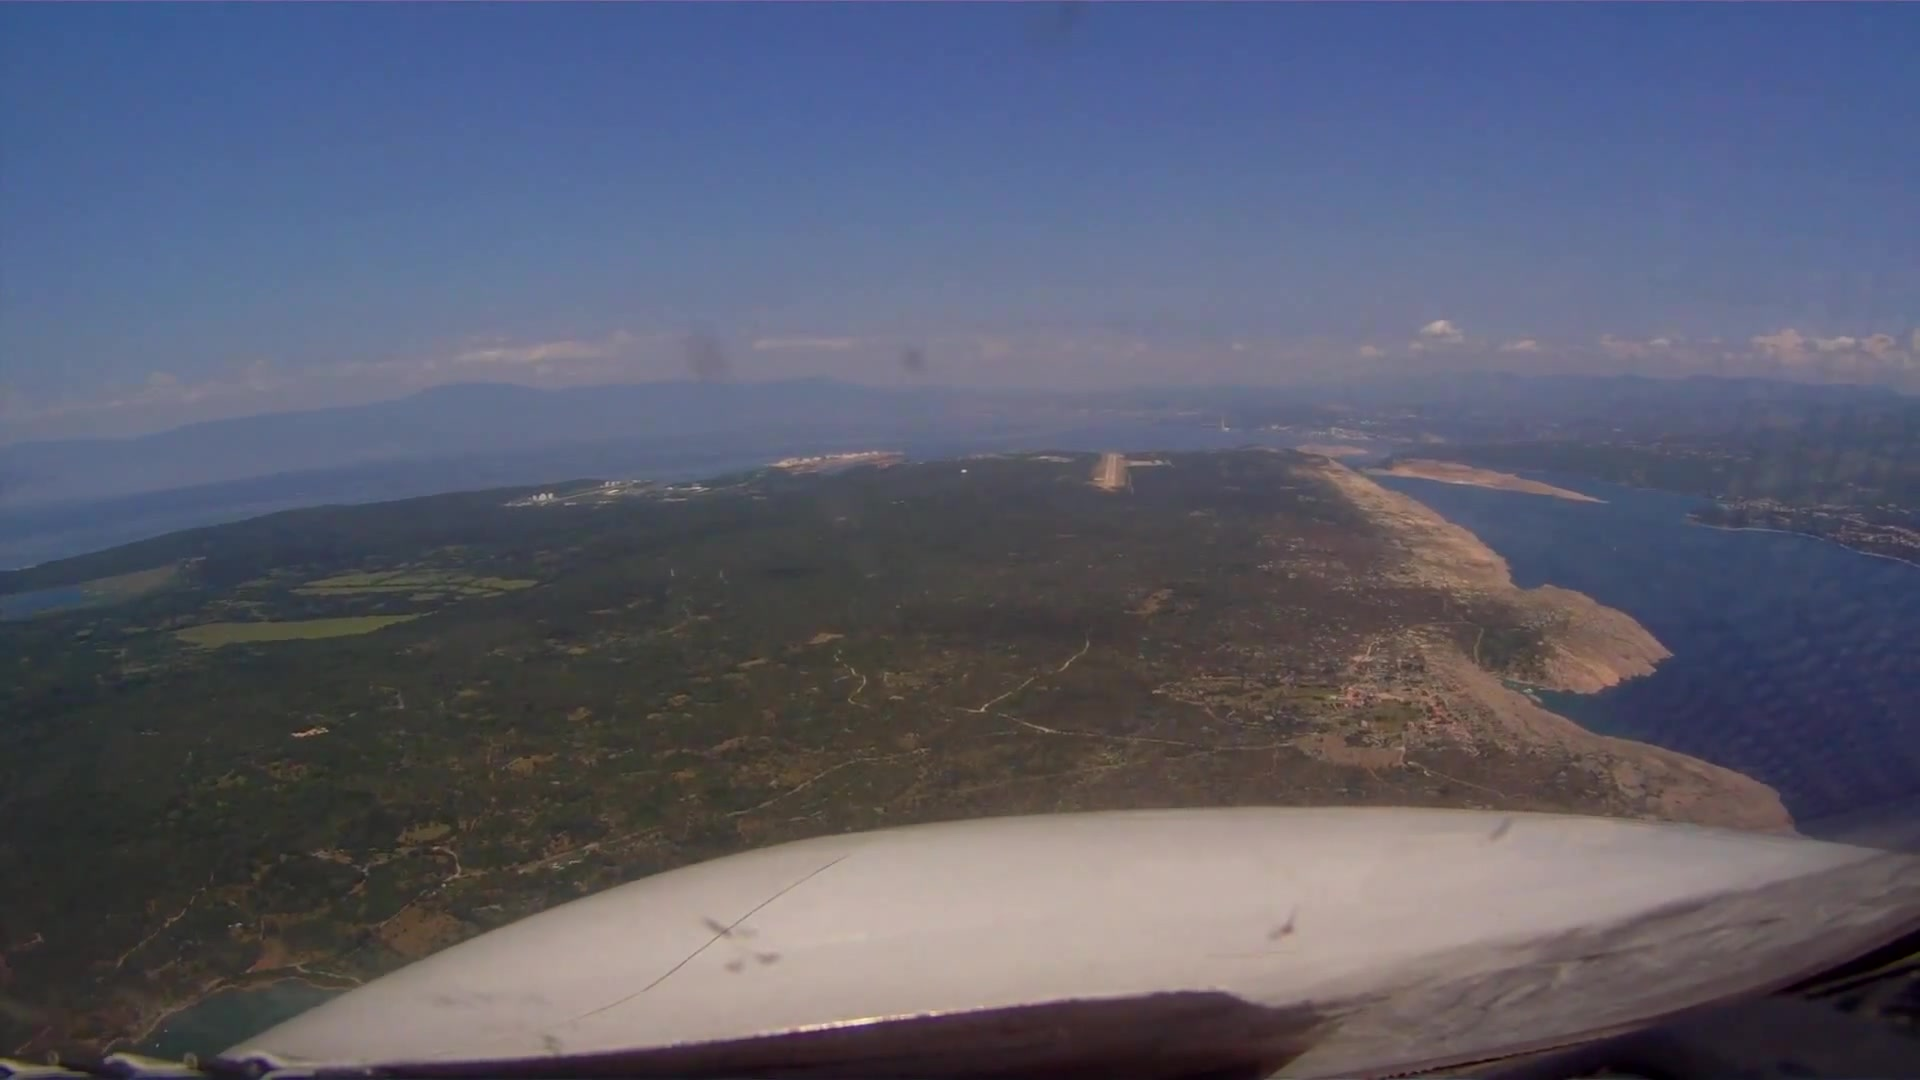runway: (1102, 454, 1120, 487)
